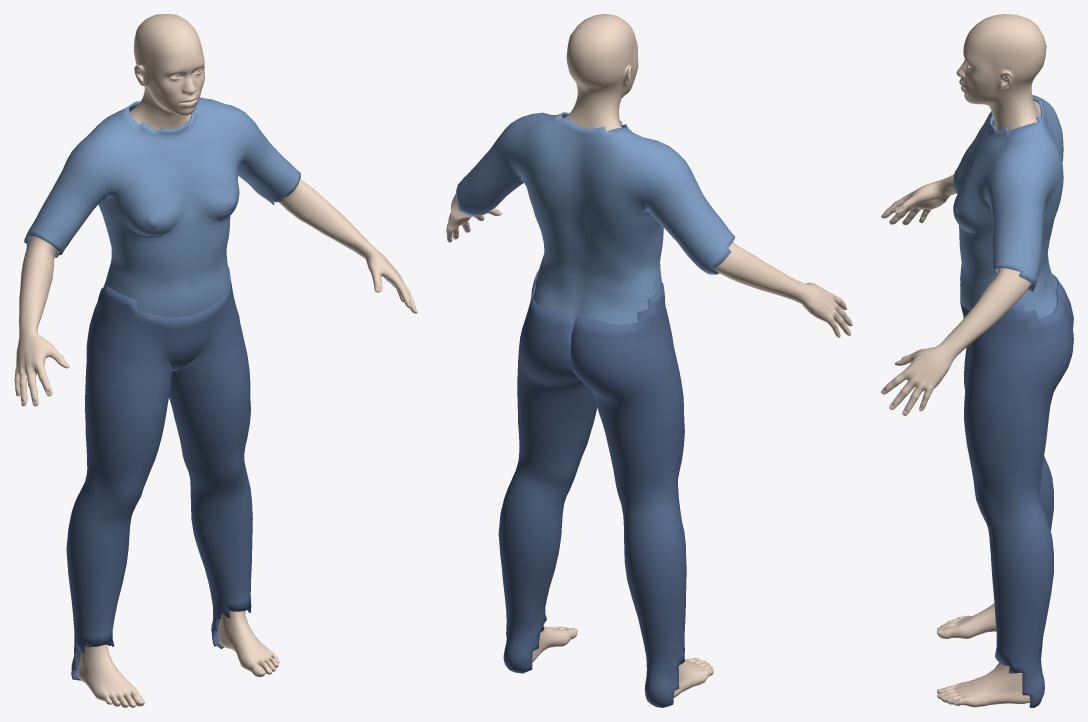
The model's file is avatar_2640ec398aaf.glb.
3 views of the same model, side by side, from view 1: azimuth 30°, elevation 25°; view 2: azimuth 150°, elevation 25°; view 3: azimuth 270°, elevation 25° (orthographic).
Parts seen in each view (by area): view 1: garment_jeans, garment_tshirt, Human_gen; view 2: garment_jeans, garment_tshirt, Human_gen; view 3: garment_jeans, Human_gen, garment_tshirt.
Part boxes in pixels (x1,y1,x2,y2): garment_jeans: [66, 267, 252, 680]; garment_tshirt: [24, 97, 300, 317]; Human_gen: [14, 14, 417, 707]; garment_jeans: [498, 270, 686, 707]; garment_tshirt: [455, 112, 734, 324]; Human_gen: [446, 14, 852, 697]; garment_jeans: [960, 274, 1073, 707]; Human_gen: [881, 14, 1046, 707]; garment_tshirt: [953, 94, 1063, 318].
Bounding box in the file's own units: 1.05 × 1.67 × 0.446.
